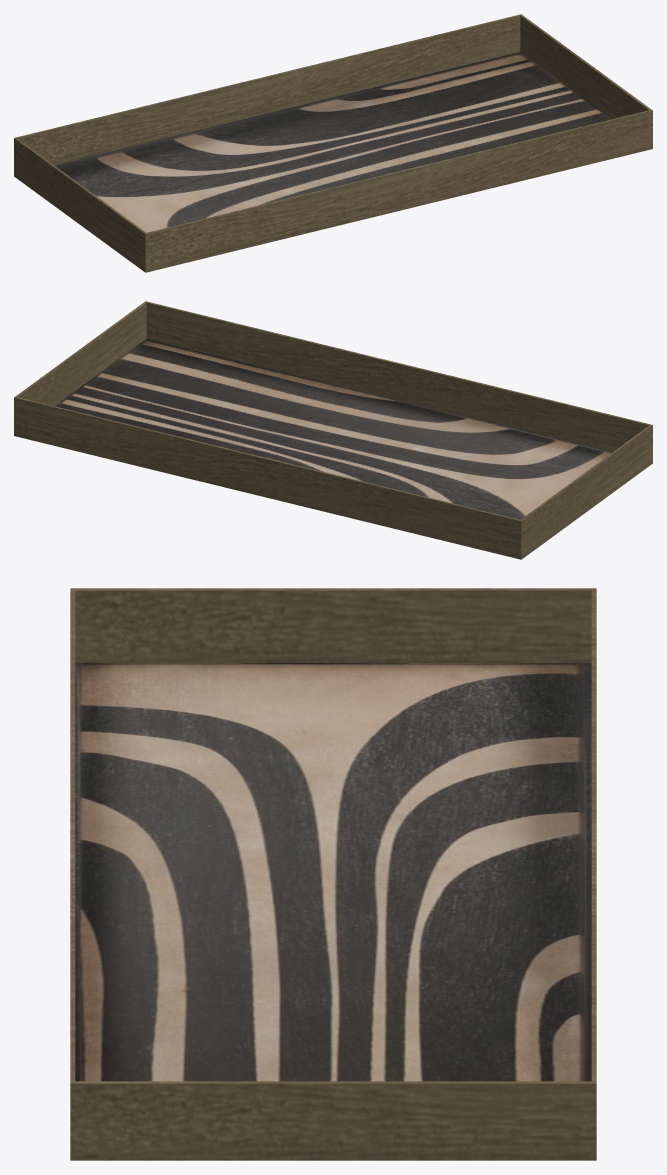
Rendered from Graphite_CurvesWoodenTray-Medium.glb.
3 views of the same model, one above another, from view 1: azimuth 30°, elevation 25°; view 2: azimuth 150°, elevation 25°; view 3: azimuth 270°, elevation 25° (orthographic). The views are drawn at different scales.
Visible parts, largest first — view 1: model 23; view 2: model 23; view 3: model 23.
Boxes of the visible parts, x1,y1,x2,y2 form: model 23: (14,14,652,272); model 23: (14,301,652,559); model 23: (70,588,596,1160).
Size of the model in its own units: 0.7218 by 0.0523 by 0.3243.
Materials: 2 (2 with a texture image).
